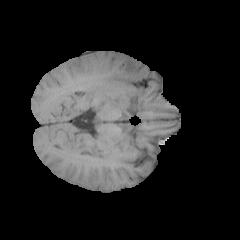glioma: (100, 57, 151, 102)
